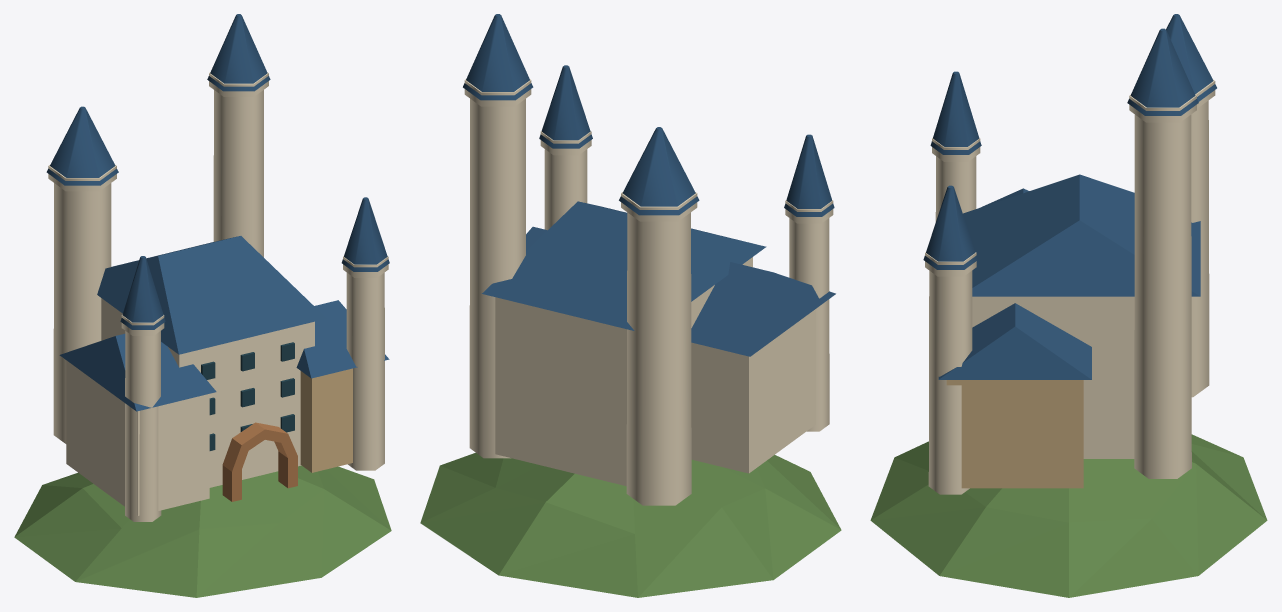
File: neuschwanstein.glb
3 renders of one model, left to right at view 1: azimuth 30°, elevation 25°; view 2: azimuth 150°, elevation 25°; view 3: azimuth 270°, elevation 25°, orthographic. The views are drawn at different scales.
Parts seen in each view (by area): view 1: base_8B937B, towers_E2D9C3, roof_526B75, body_E2D9C3, body_D1C4A8, body_BEAD8C, detail; view 2: towers_E2D9C3, base_8B937B, body_E2D9C3, roof_526B75; view 3: base_8B937B, towers_E2D9C3, roof_526B75, body_D1C4A8, body_E2D9C3.
Part boxes in pixels (<box>): base_8B937B: <box>14,465,391,597</box>; towers_E2D9C3: <box>48,72,388,521</box>; roof_526B75: <box>46,14,389,411</box>; body_E2D9C3: <box>66,298,314,515</box>; body_D1C4A8: <box>300,368,352,472</box>; body_BEAD8C: <box>222,422,297,501</box>; detail: <box>201,342,294,450</box>; towers_E2D9C3: <box>464,79,833,505</box>; base_8B937B: <box>420,452,841,597</box>; body_E2D9C3: <box>495,257,815,486</box>; roof_526B75: <box>463,14,835,356</box>; base_8B937B: <box>870,434,1267,597</box>; towers_E2D9C3: <box>925,79,1215,494</box>; roof_526B75: <box>923,14,1216,379</box>; body_D1C4A8: <box>946,380,1083,488</box>; body_E2D9C3: <box>972,296,1134,458</box>.
Size of the model in its own units: 1 by 1.32 by 0.9231.
